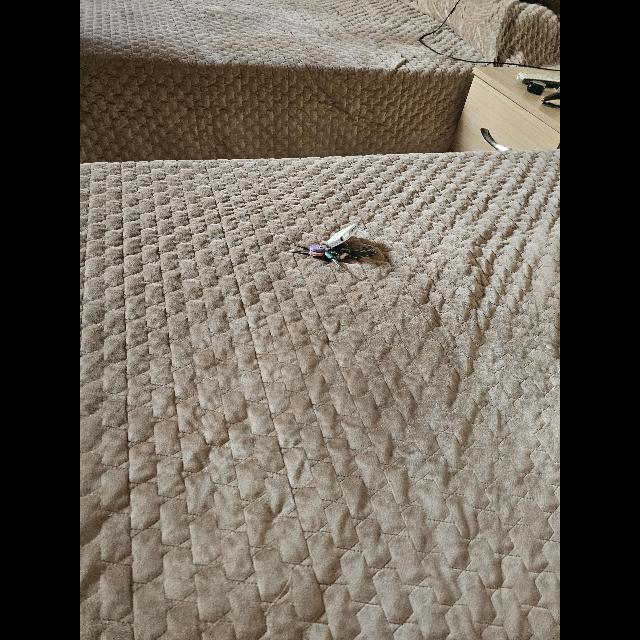Keys: (291, 222, 375, 270)
